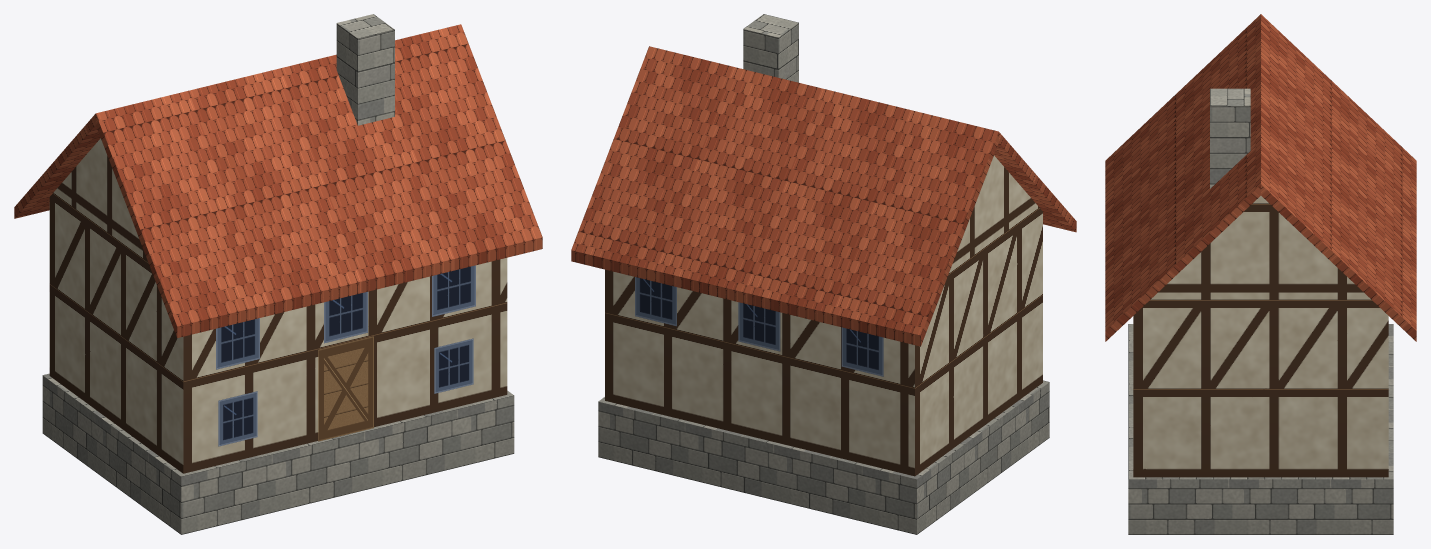
The model's file is house_a.glb.
3 renders of one model, left to right at view 1: azimuth 30°, elevation 25°; view 2: azimuth 150°, elevation 25°; view 3: azimuth 270°, elevation 25°, orthographic. The views are drawn at different scales.
Parts seen in each view (by area): view 1: house_a; view 2: house_a; view 3: house_a.
Boxes of the visible parts, left/top/right/bottom form: house_a: left=14, top=14, right=542, bottom=534; house_a: left=571, top=14, right=1076, bottom=534; house_a: left=1105, top=14, right=1416, bottom=534.
Bounding box in the file's own units: 7.9 × 8.5 × 6.1.
5 materials, 5 textured.
